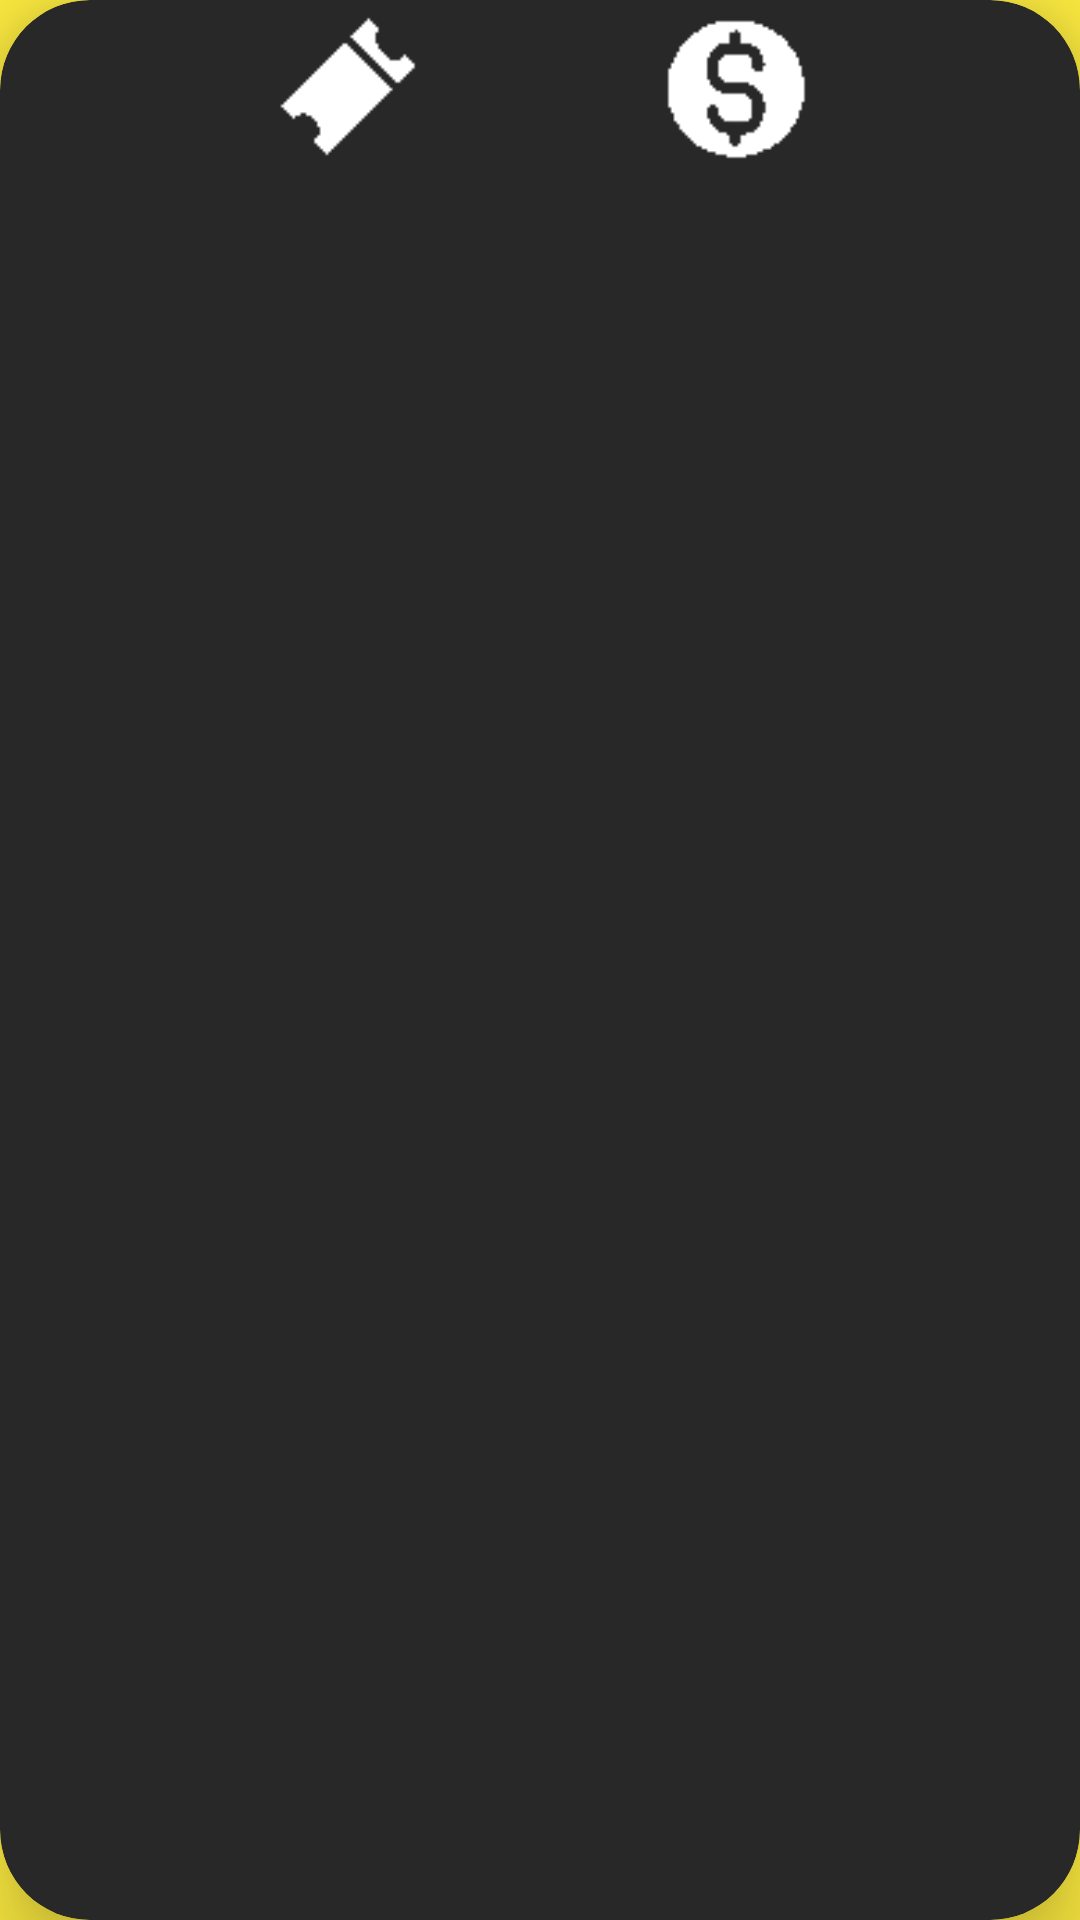

Where icons sit on this 1080x1920 app screen, as (x1, y1, x2, y2):
coin: (667, 20, 806, 159)
ticket: (280, 17, 416, 156)
